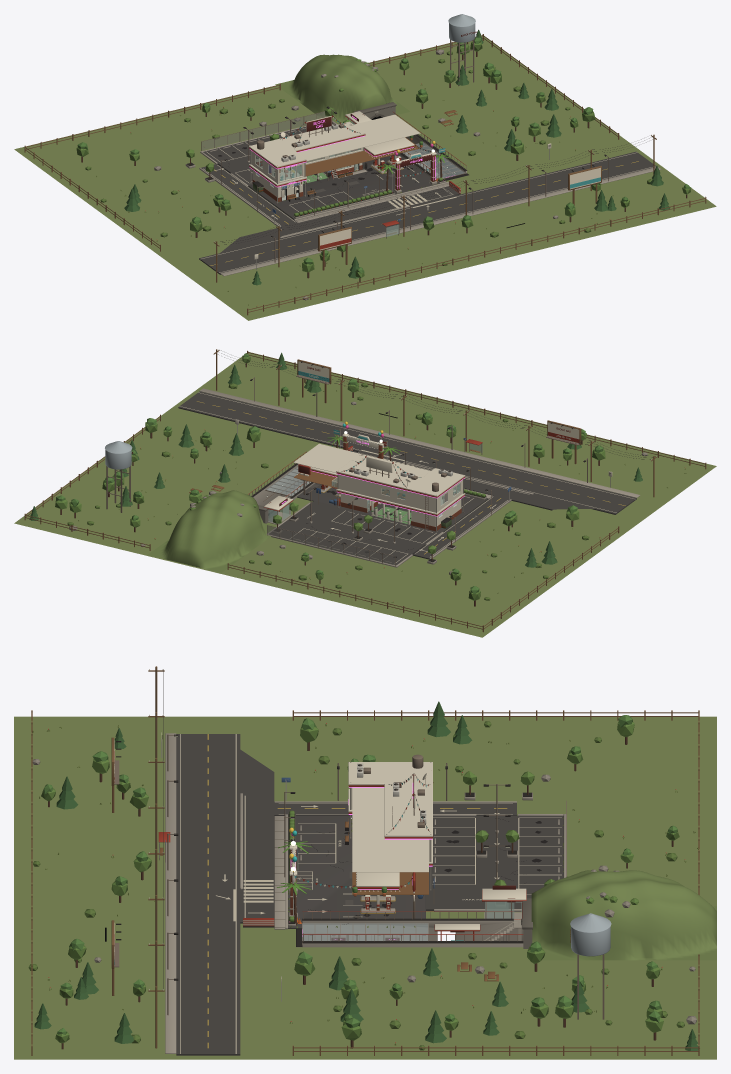
The model's file is gas_station.glb.
3 views of the same model, one above another, from view 1: azimuth 30°, elevation 25°; view 2: azimuth 150°, elevation 25°; view 3: azimuth 270°, elevation 25° (orthographic). The views are drawn at different scales.
Parts seen in each view (by area): view 1: GasStation; view 2: GasStation; view 3: GasStation.
Part boxes in pixels (box(x1,y1,x2,y2)): GasStation: box(14, 14, 716, 320); GasStation: box(14, 349, 716, 637); GasStation: box(14, 666, 716, 1059).
Size of the model in its own units: 90 by 16.08 by 78.
